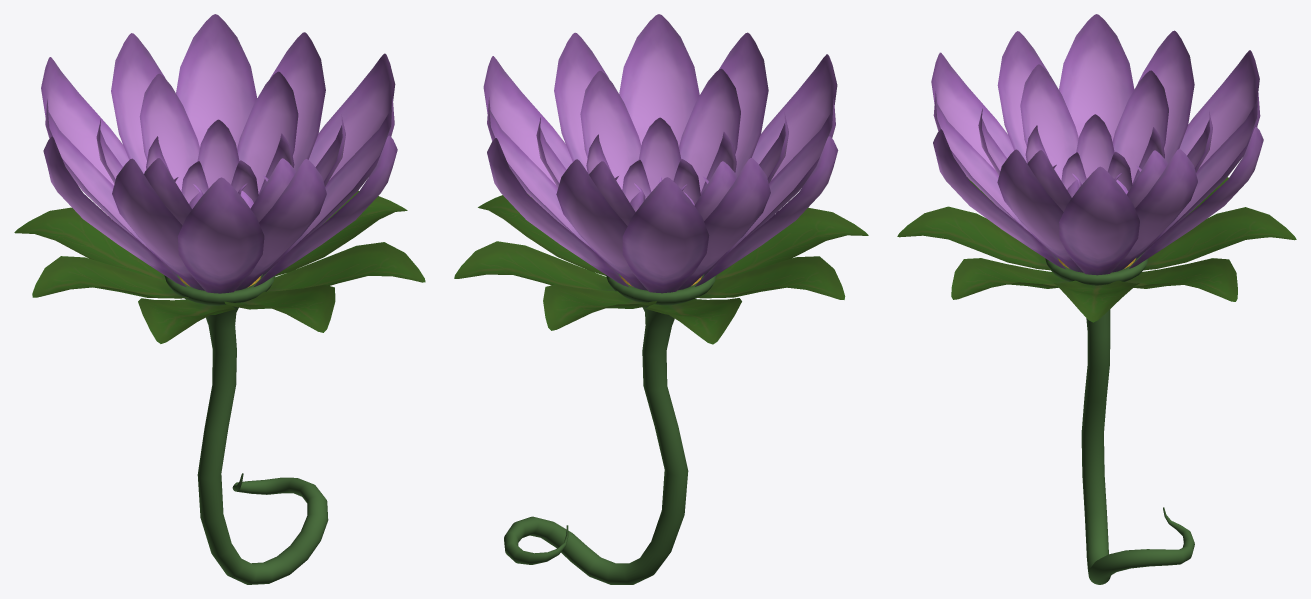
The model's file is Flower_Lotus-Stylized.obj.
The picture shows the model from 3 angles, left to right: view 1: azimuth 30°, elevation 25°; view 2: azimuth 150°, elevation 25°; view 3: azimuth 270°, elevation 25°; orthographic projection. The views are drawn at different scales.
Visible parts, largest first — view 1: Flower_Lotus-Stylized_Circle.008; view 2: Flower_Lotus-Stylized_Circle.008; view 3: Flower_Lotus-Stylized_Circle.008.
Boxes of the visible parts, left/top/right/bottom form: Flower_Lotus-Stylized_Circle.008: left=14, top=14, right=425, bottom=584; Flower_Lotus-Stylized_Circle.008: left=454, top=14, right=868, bottom=584; Flower_Lotus-Stylized_Circle.008: left=897, top=14, right=1296, bottom=584.
Size of the model in its own units: 0.2223 by 0.2865 by 0.2223.
